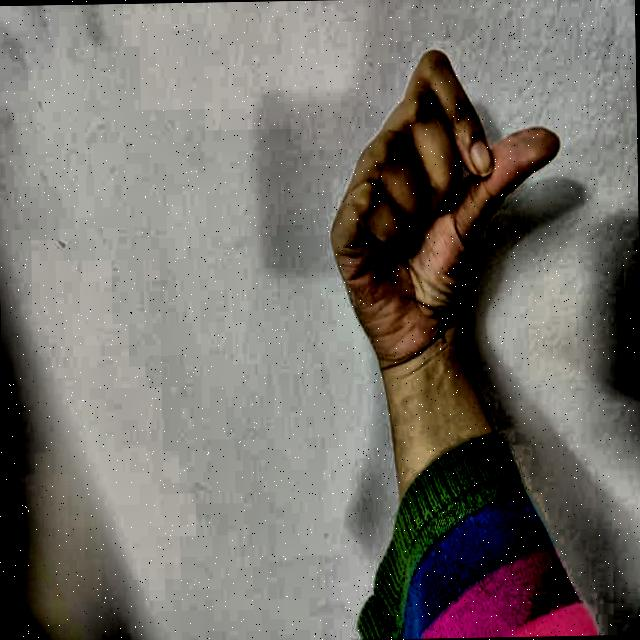Ay: (308, 17, 584, 412)
